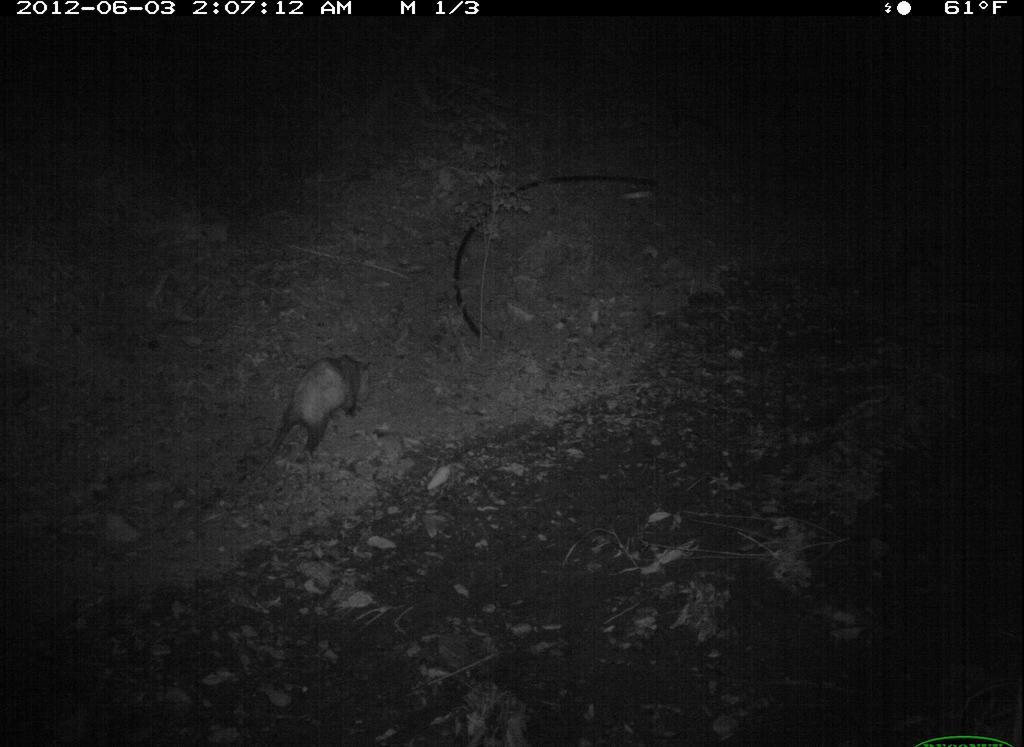opossum: (249, 331, 390, 482)
